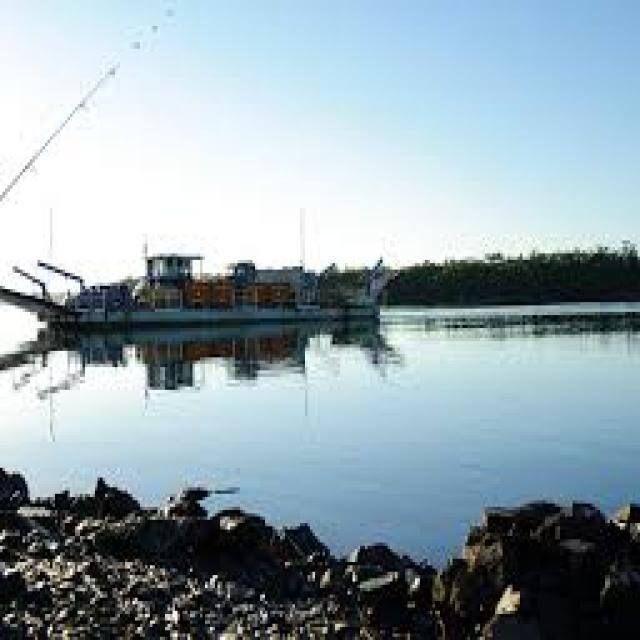fishing boat: (17, 233, 400, 321)
